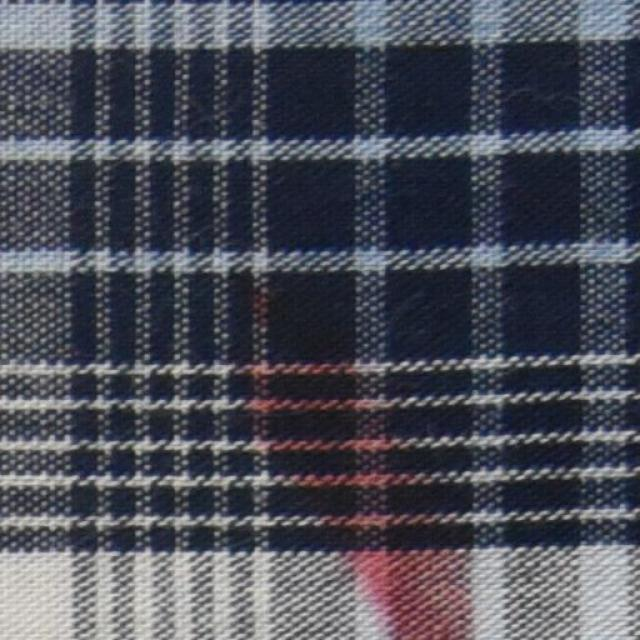Stain: (226, 308, 469, 639)
